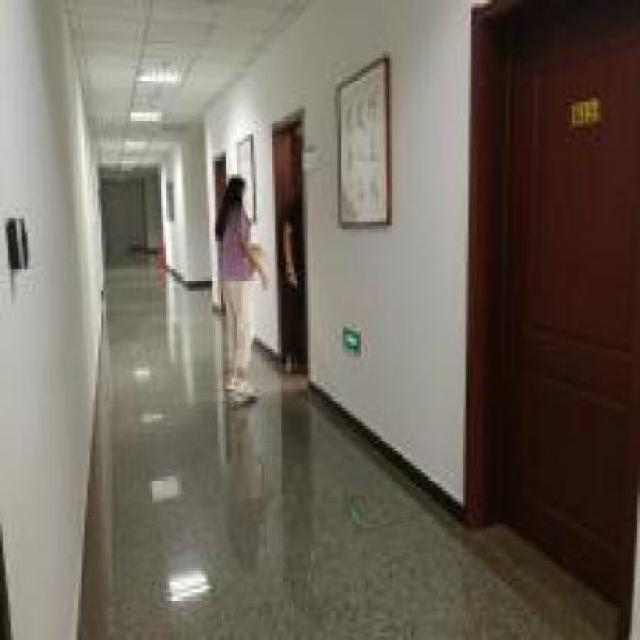exit_sign: (338, 323, 364, 356)
